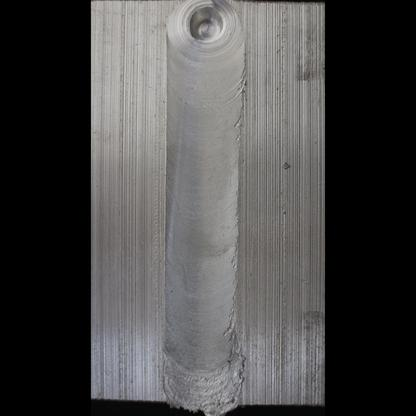crack: (230, 72, 249, 101), (221, 312, 237, 335), (233, 112, 243, 143)
galling: (151, 339, 251, 408)
keyhole: (164, 1, 248, 56)
void: (229, 250, 238, 268)
